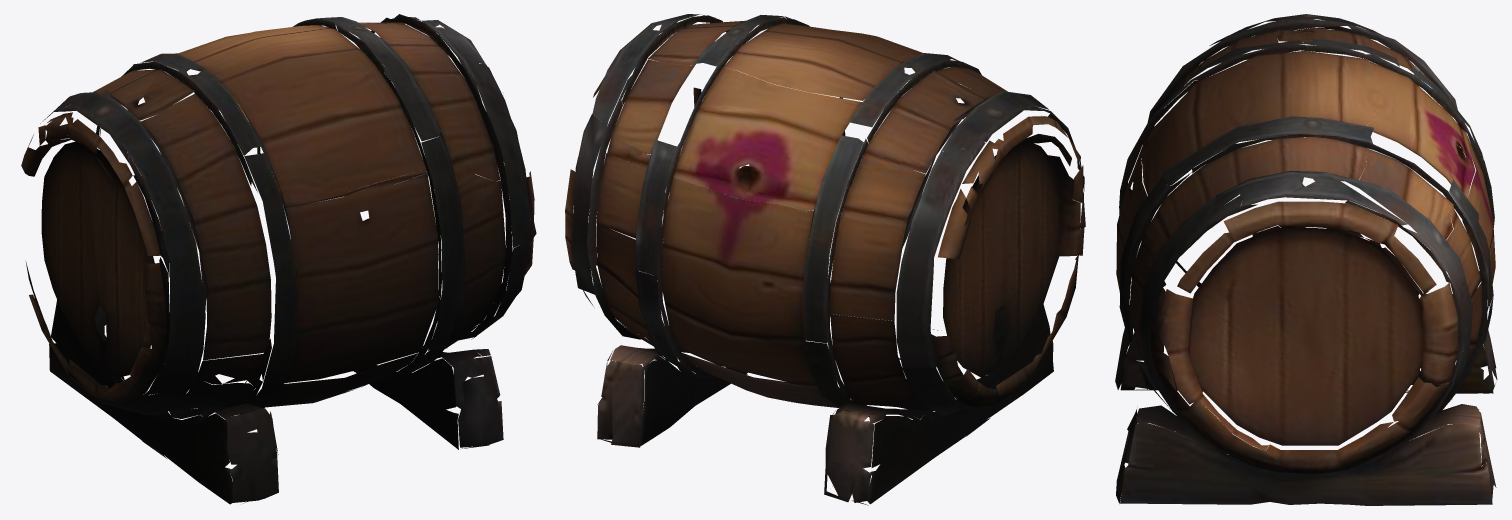
File: barrica.glb
The picture shows the model from 3 angles, left to right: view 1: azimuth 30°, elevation 25°; view 2: azimuth 150°, elevation 25°; view 3: azimuth 270°, elevation 25°; orthographic projection.
Visible parts, largest first — view 1: barrica; view 2: barrica; view 3: barrica.
Part boxes in pixels (left/top/right/bottom): barrica: left=21, top=14, right=536, bottom=504; barrica: left=565, top=14, right=1085, bottom=505; barrica: left=1115, top=14, right=1497, bottom=505.
Bounding box in the file's own units: 1.13 × 1 × 0.9588.
Materials: 1 (1 with a texture image).
